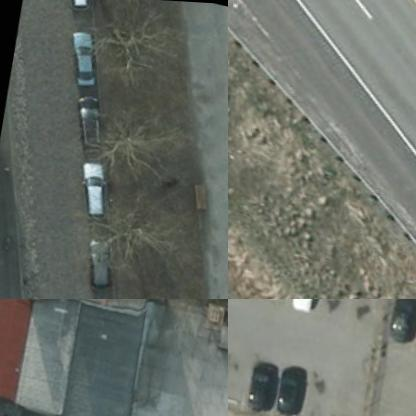car: (233, 352, 299, 415), (257, 353, 322, 415), (63, 26, 107, 87), (70, 89, 112, 150), (368, 299, 415, 349), (74, 157, 112, 218), (81, 233, 116, 288), (59, 0, 100, 9)
